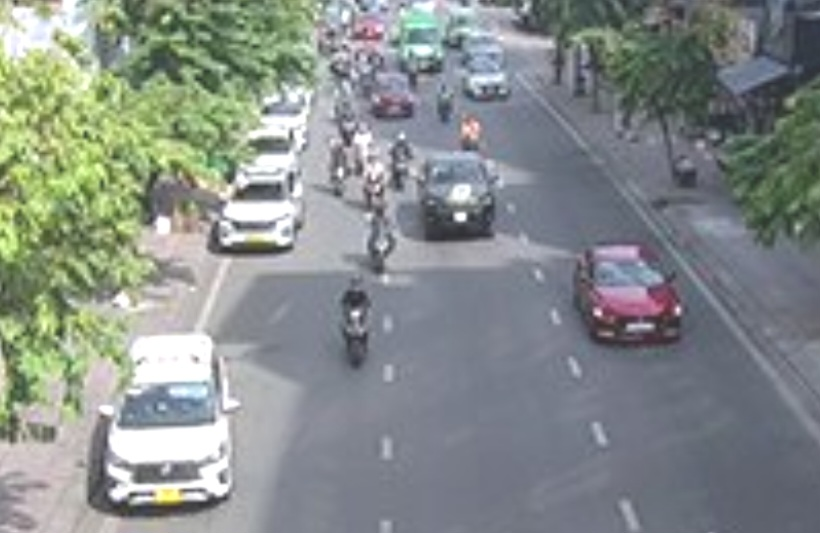car: (98, 333, 232, 512), (569, 243, 686, 347), (220, 163, 307, 249), (412, 155, 496, 241), (399, 23, 451, 74), (461, 58, 512, 102), (372, 73, 417, 118)
